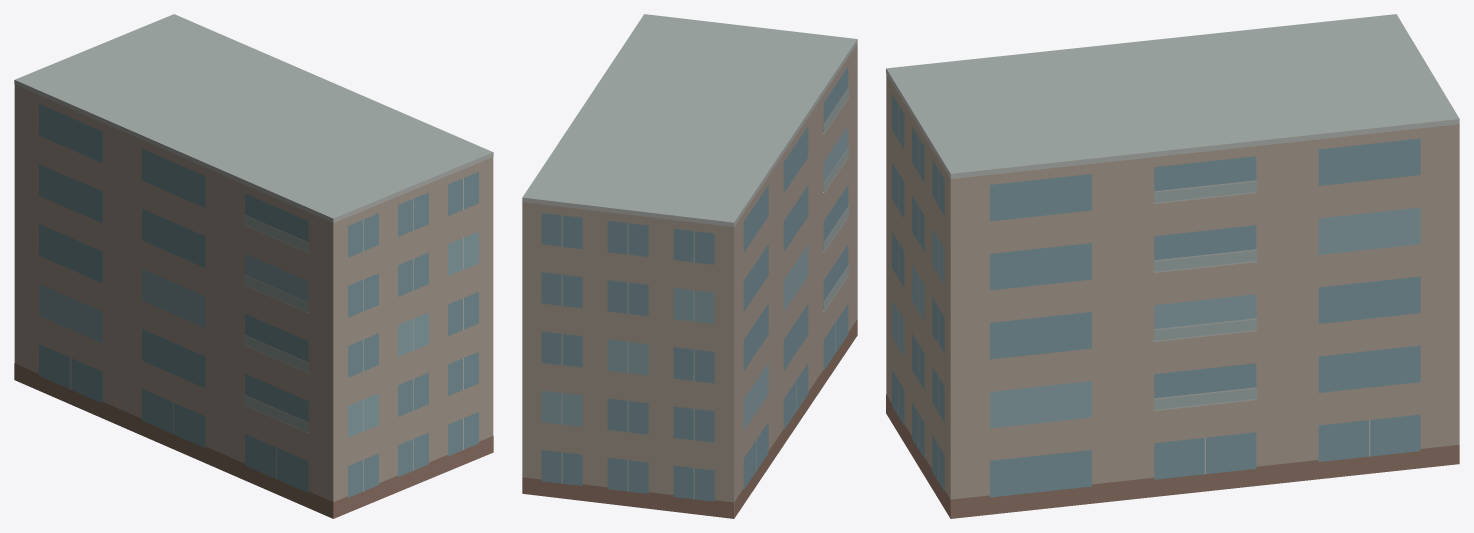
Rendered from survey-upis-32694799.glb.
3 renders of one model, left to right at view 1: azimuth 30°, elevation 25°; view 2: azimuth 150°, elevation 25°; view 3: azimuth 270°, elevation 25°, orthographic. The views are drawn at different scales.
Parts seen in each view (by area): view 1: survey-upis-32694799.tmp; view 2: survey-upis-32694799.tmp; view 3: survey-upis-32694799.tmp.
Boxes of the visible parts, <box> form: survey-upis-32694799.tmp: <box>14,14,493,518</box>; survey-upis-32694799.tmp: <box>522,14,857,518</box>; survey-upis-32694799.tmp: <box>886,14,1459,518</box>.
Size of the model in its own units: 15.99 by 16.08 by 24.24.
